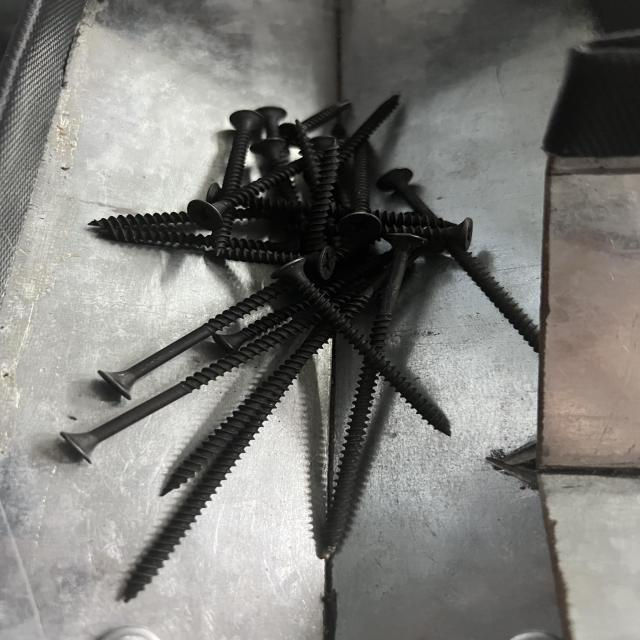screw: (271, 256, 457, 441)
